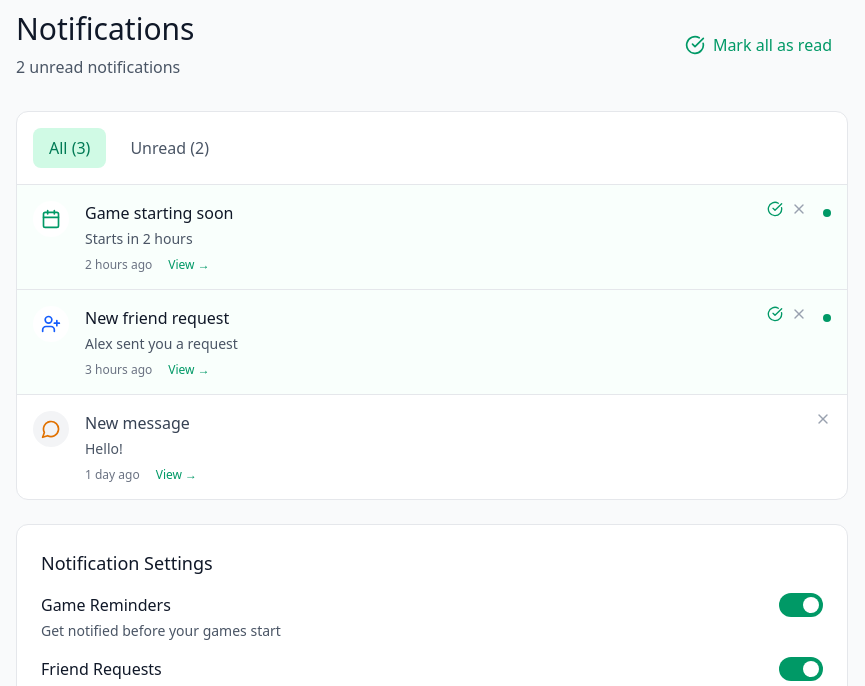
Test case: NotificationsPage › mark all as read keeps local update even if API fails
Step 1. Click the button "Mark all as read" → (758, 45), box [669,25,848,65]
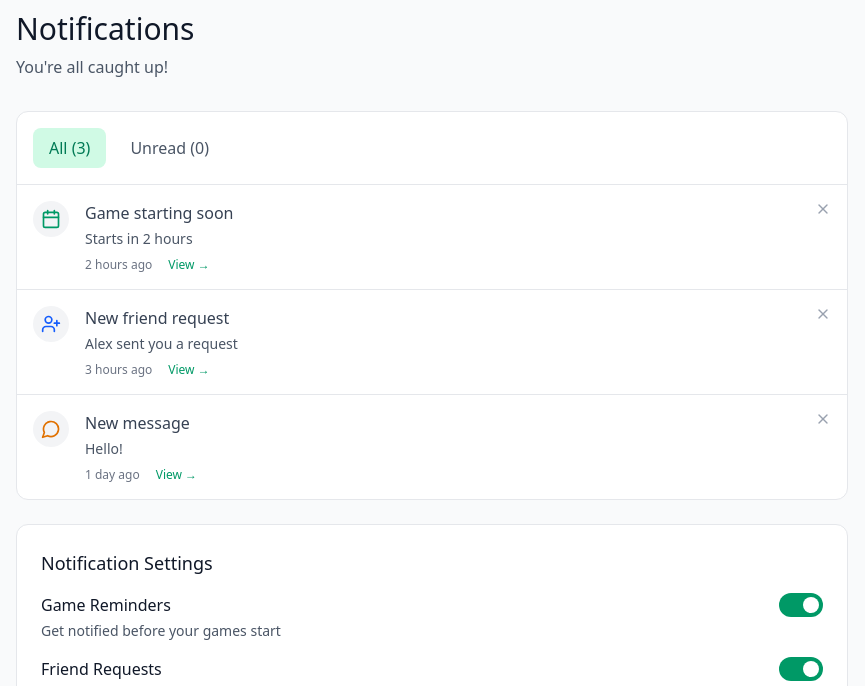
Expected: the text "You're all caught up!" is shown, [16,55,194,79]
